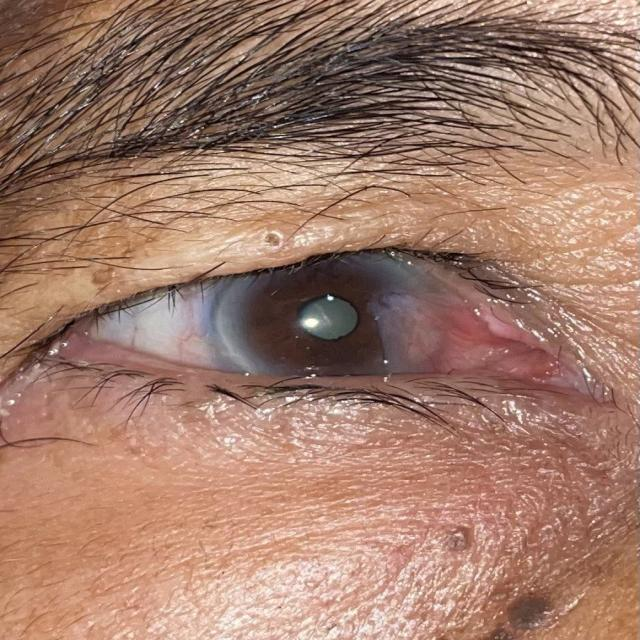Cataract: (218, 236, 449, 398)
